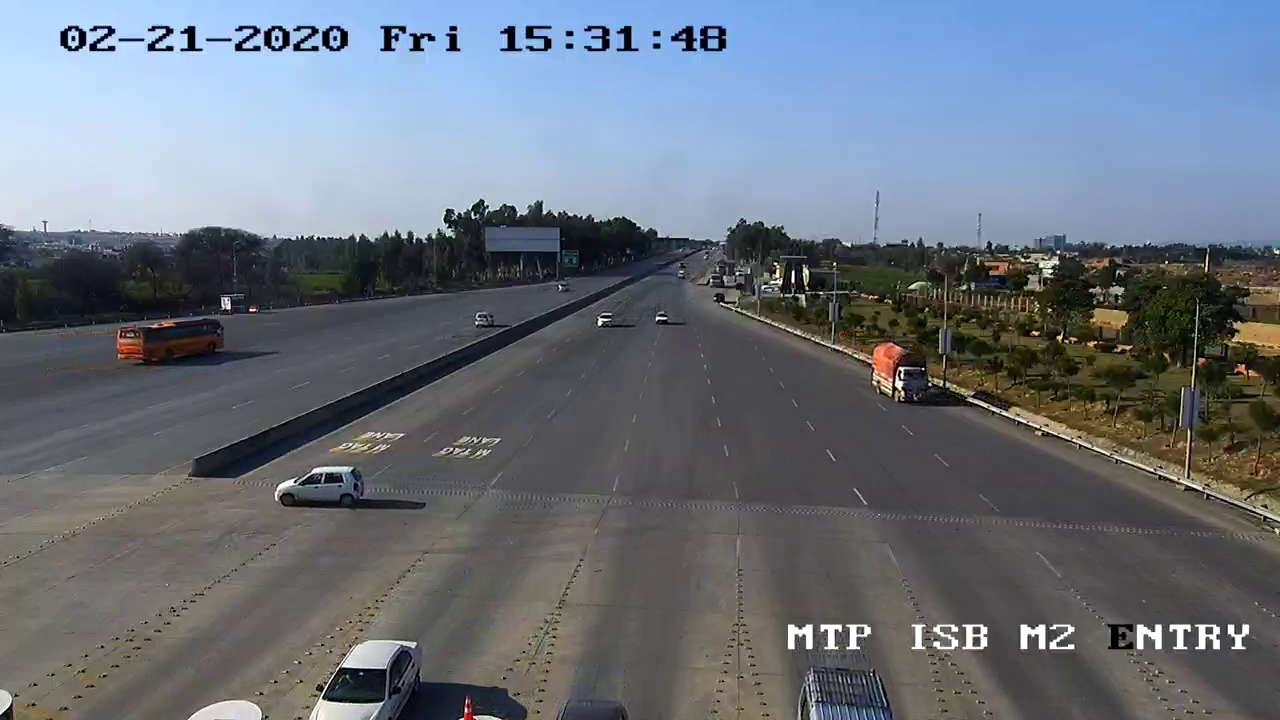f5: (852, 336, 941, 420)
